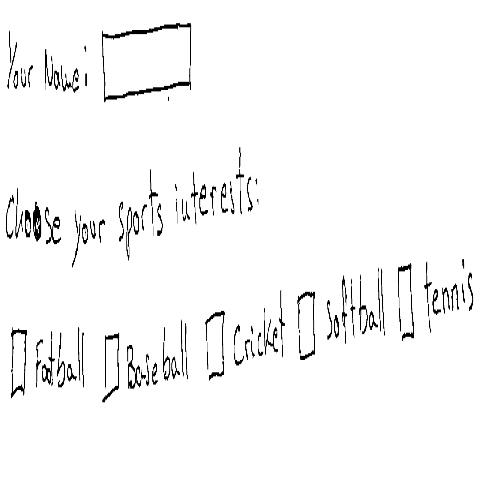Check Box: (296, 262, 385, 360), (101, 312, 188, 404), (204, 288, 285, 382), (396, 251, 474, 344), (9, 315, 85, 406)
Textbox: (100, 12, 193, 104)
